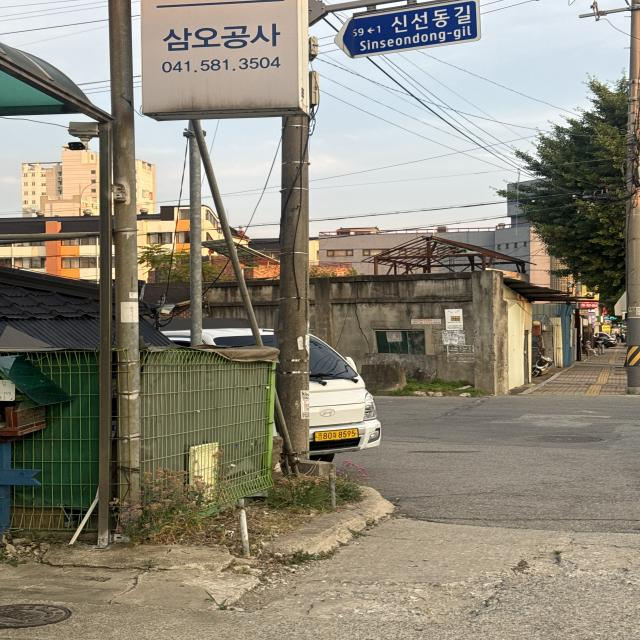car: (136, 302, 446, 472)
